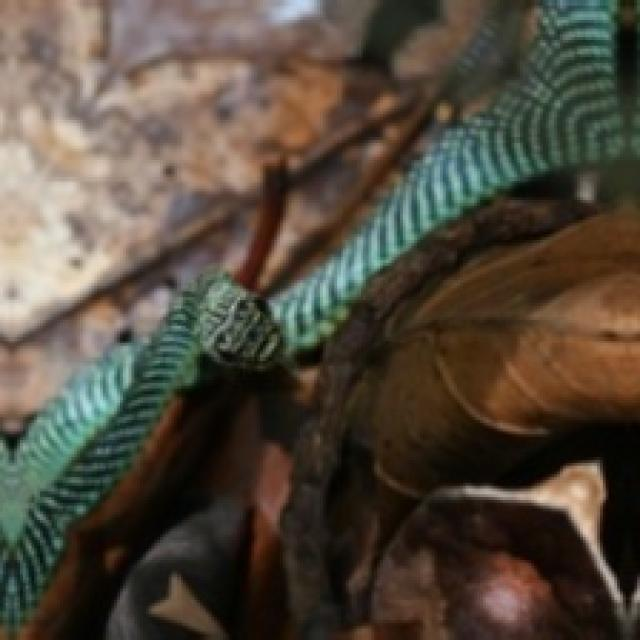paradise tree snake: (283, 197, 637, 637), (291, 220, 637, 637), (271, 0, 637, 354), (137, 403, 206, 546), (240, 440, 286, 637), (209, 423, 254, 494)
